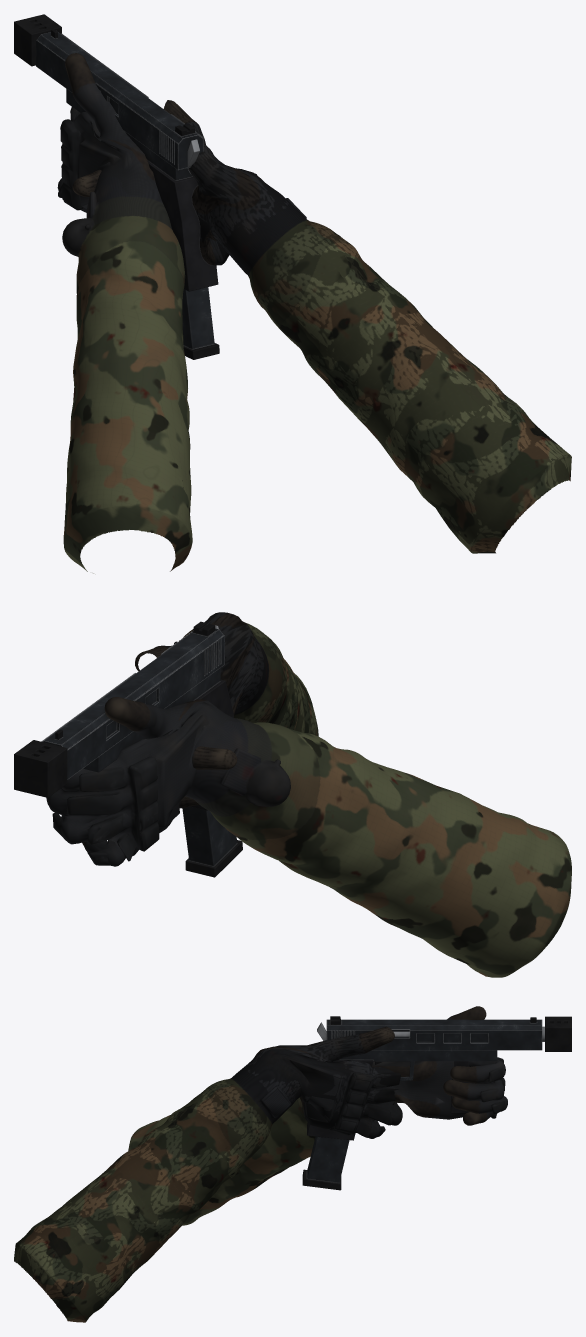
3 renders of one model, top to bottom at view 1: azimuth 30°, elevation 25°; view 2: azimuth 150°, elevation 25°; view 3: azimuth 270°, elevation 25°, orthographic. The views are drawn at different scales.
Visible parts, largest first — view 1: Body, ArmL, Slide, Mag; view 2: ArmL, Body, Slide, Mag; view 3: Body, ArmL, Slide, Mag.
Part boxes in pixels (x1,y1,x2,y2): Body: (14, 14, 571, 553); ArmL: (57, 53, 192, 573); Slide: (36, 29, 203, 170); Mag: (182, 287, 219, 359); ArmL: (46, 697, 571, 977); Body: (14, 612, 318, 810); Slide: (41, 621, 224, 779); Mag: (182, 806, 242, 877); Body: (14, 1016, 571, 1322); ArmL: (128, 1006, 507, 1225); Slide: (326, 1016, 542, 1050); Mag: (302, 1136, 349, 1190).
Size of the model in its own units: 0.4115 by 0.3284 by 0.6213.
Materials: 2 (2 with a texture image).
